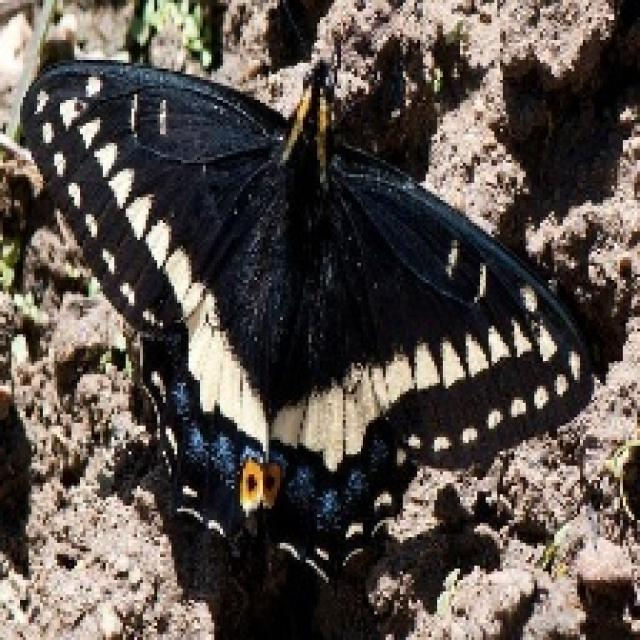butterfly: (17, 49, 594, 528)
